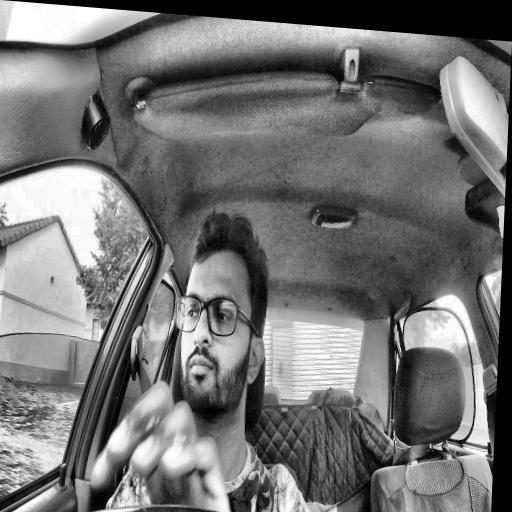awake: (170, 205, 272, 422)
